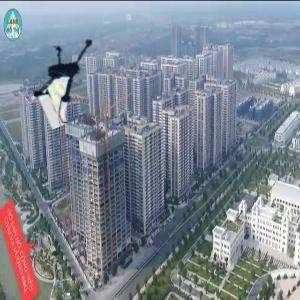drone: (23, 25, 118, 120)
